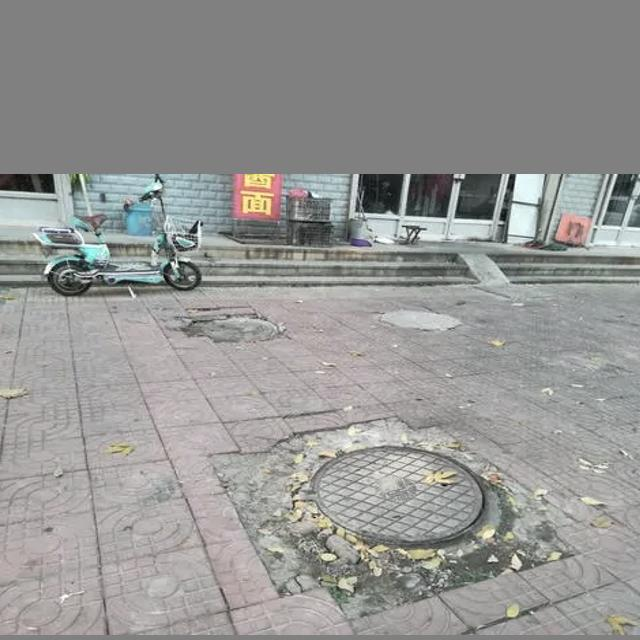circle: (225, 416, 552, 612)
